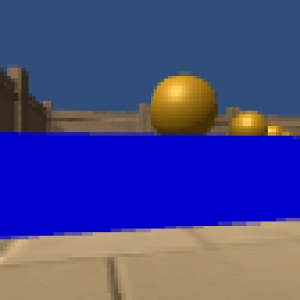goodGoalMulti: (151, 71, 217, 135), (226, 109, 267, 137), (267, 125, 284, 136)
platform: (2, 135, 300, 230)
